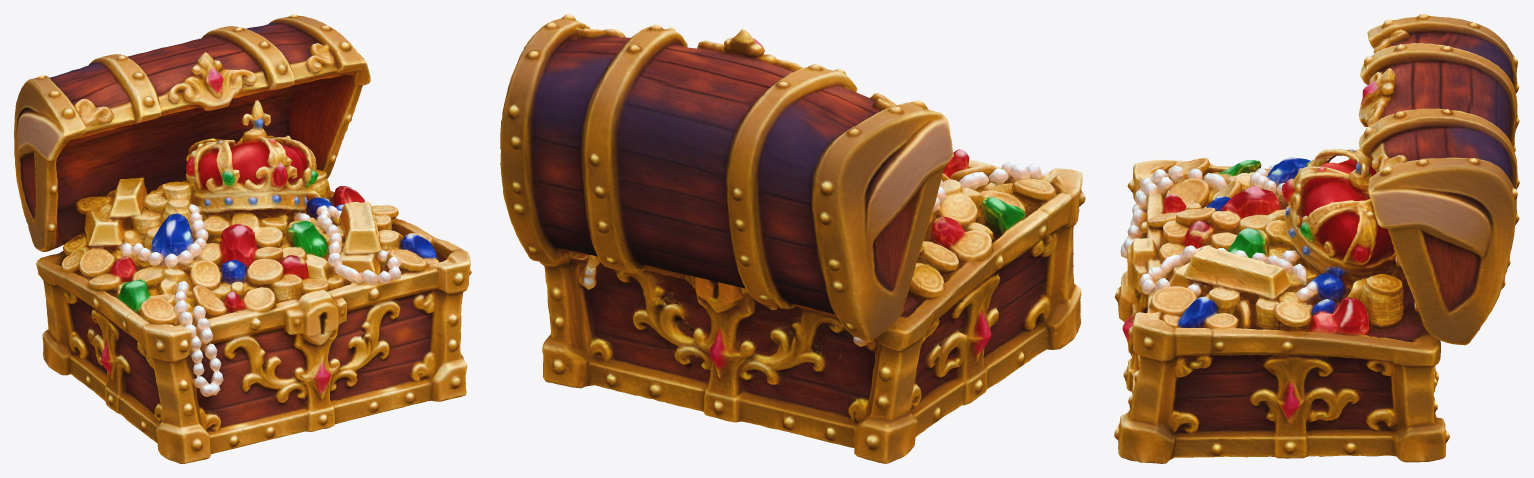
Rendered from chest_high.glb.
3 views of the same model, side by side, from view 1: azimuth 30°, elevation 25°; view 2: azimuth 150°, elevation 25°; view 3: azimuth 270°, elevation 25° (orthographic). The views are drawn at different scales.
Size of the model in its own units: 1 by 0.8732 by 0.9913.
Materials: 1 (1 with a texture image).
